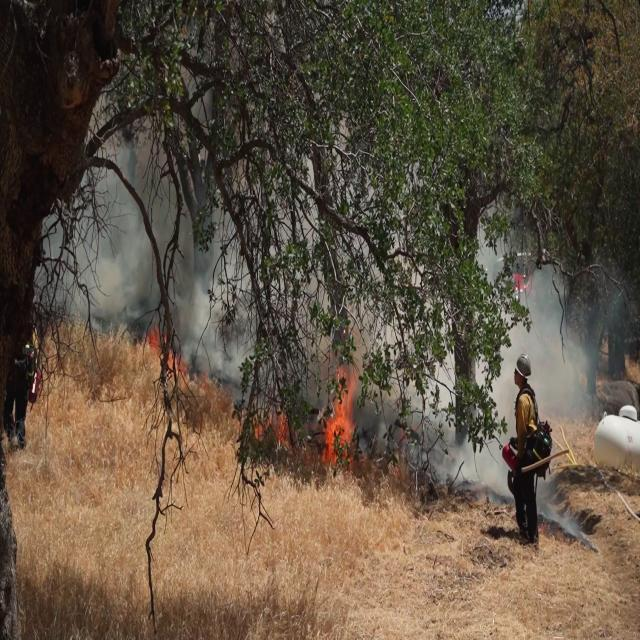Fire: (321, 374, 358, 453)
Smoke: (46, 113, 251, 404), (526, 256, 600, 470)
